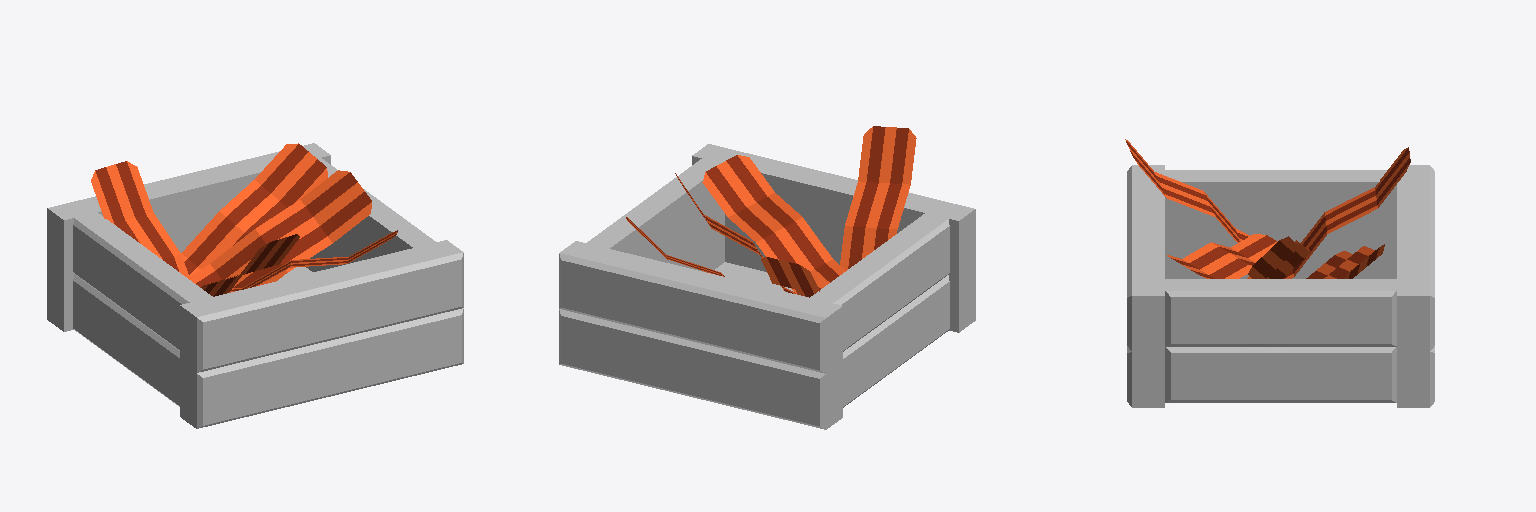
File: crate_bacon.obj
3 views of the same model, side by side, from view 1: azimuth 30°, elevation 25°; view 2: azimuth 150°, elevation 25°; view 3: azimuth 270°, elevation 25° (orthographic).
Parts seen in each view (by area): view 1: crate, bacon, bacon.001, bacon.003, bacon.004, bacon.002; view 2: crate, bacon.002, bacon.004, bacon.003, bacon; view 3: crate, bacon.003, bacon.002, bacon.004, bacon, bacon.001.
Part boxes in pixels (left/top/right/bottom): crate: left=47, top=143, right=463, bottom=428; bacon: left=188, top=170, right=371, bottom=287; bacon.001: left=181, top=143, right=327, bottom=276; bacon.003: left=91, top=161, right=188, bottom=277; bacon.004: left=201, top=234, right=299, bottom=296; bacon.002: left=229, top=230, right=397, bottom=292; crate: left=559, top=144, right=975, bottom=429; bacon.002: left=702, top=155, right=845, bottom=293; bacon.004: left=840, top=126, right=916, bottom=270; bacon.003: left=761, top=257, right=819, bottom=297; bacon: left=675, top=173, right=797, bottom=294; crate: left=1127, top=165, right=1434, bottom=407; bacon.003: left=1247, top=147, right=1410, bottom=278; bacon.002: left=1167, top=234, right=1277, bottom=278; bacon.004: left=1125, top=139, right=1249, bottom=242; bacon: left=1248, top=236, right=1310, bottom=278; bacon.001: left=1306, top=244, right=1384, bottom=278.
Bounding box in the file's own units: 2 × 1.24 × 2.01.